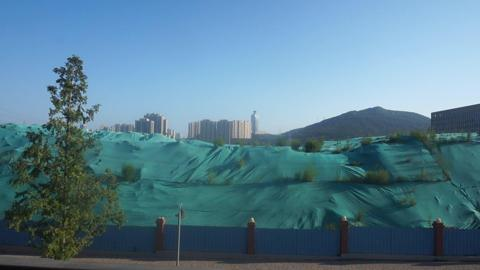UAV: (162, 132, 171, 135)
